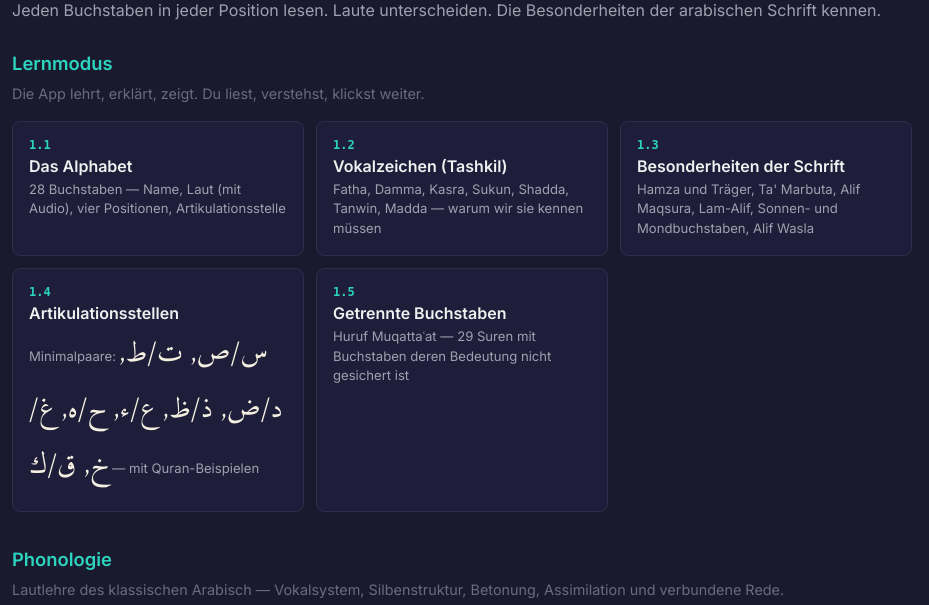
it: Lesson 1.1 — Letter Grid and Detail › switching between letters updates the detail panel
Click the text "Das Alphabet".
click(81, 166)  # box [29,156,132,176]
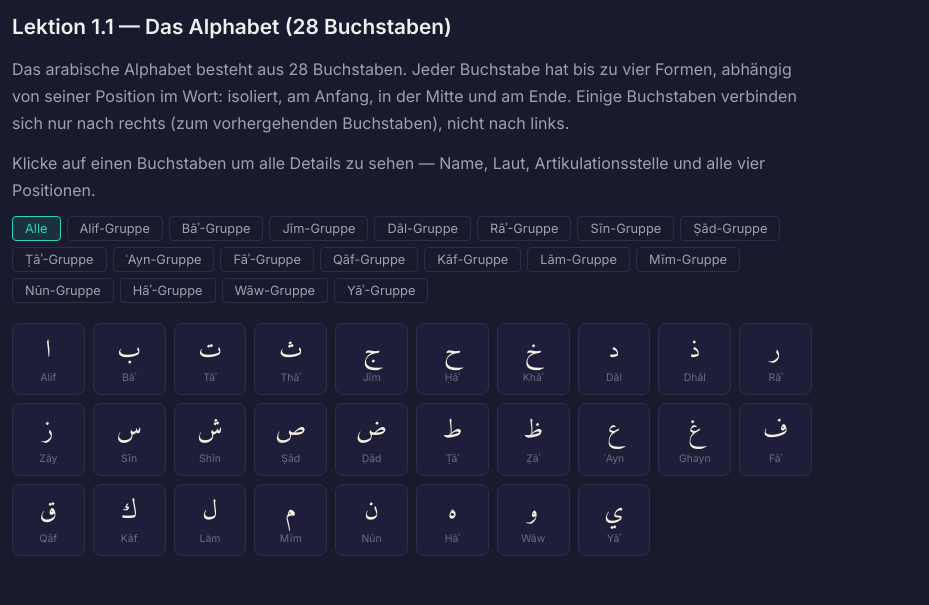
Expected: the heading "Lektion 1.1 — Das Alphabet (28 Buchstaben)" is shown, [12,14,452,39]
Click the text "Alif".
click(48, 378)  # box [40,371,56,384]
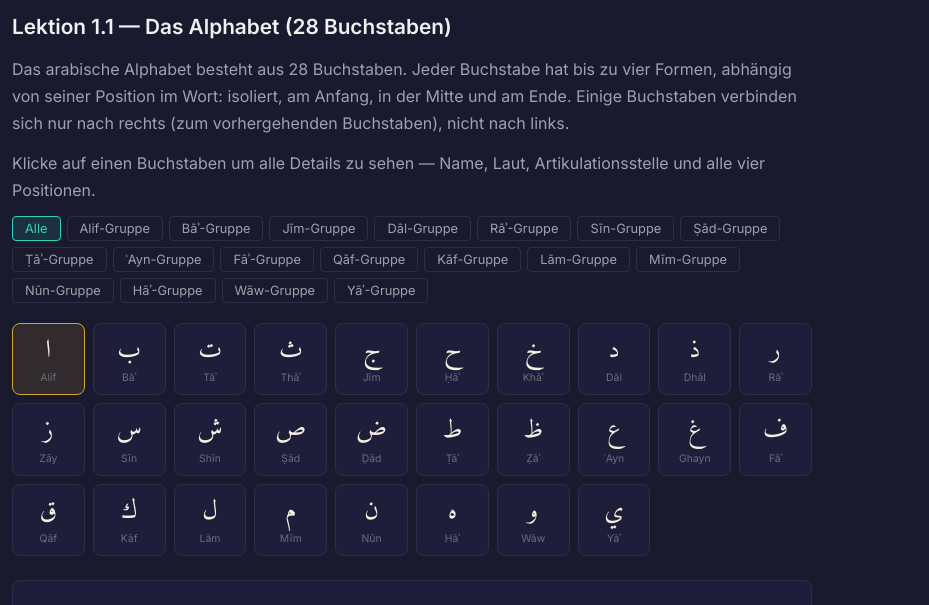
Click the text "Bāʾ".
click(129, 378)  # box [122,371,136,384]
(page scrolled)
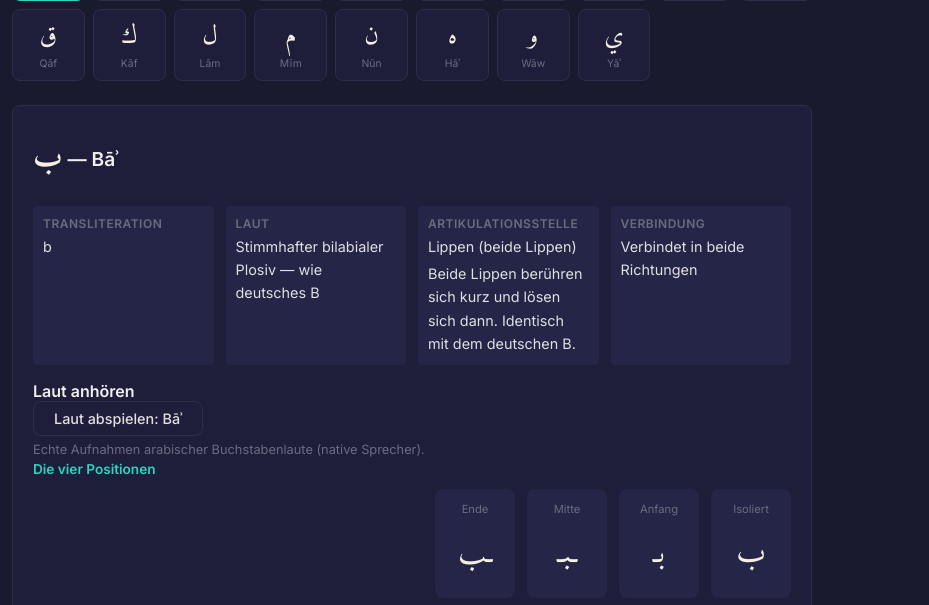
Expected: the button "Laut abspielen: Bāʾ" is shown, [33,401,203,436]
